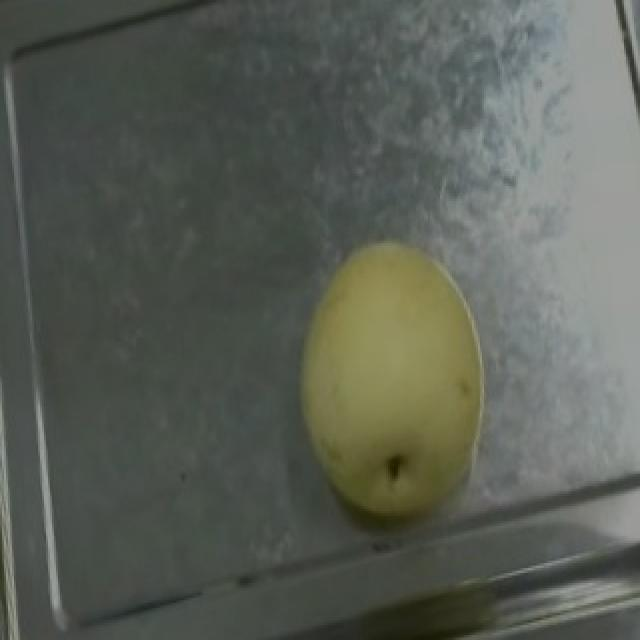Fruit: (264, 214, 526, 548)
